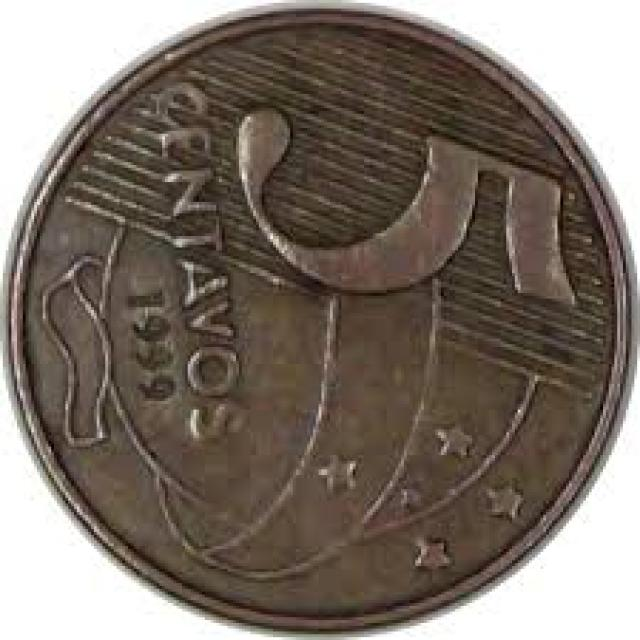5 cent: (5, 5, 624, 633)
